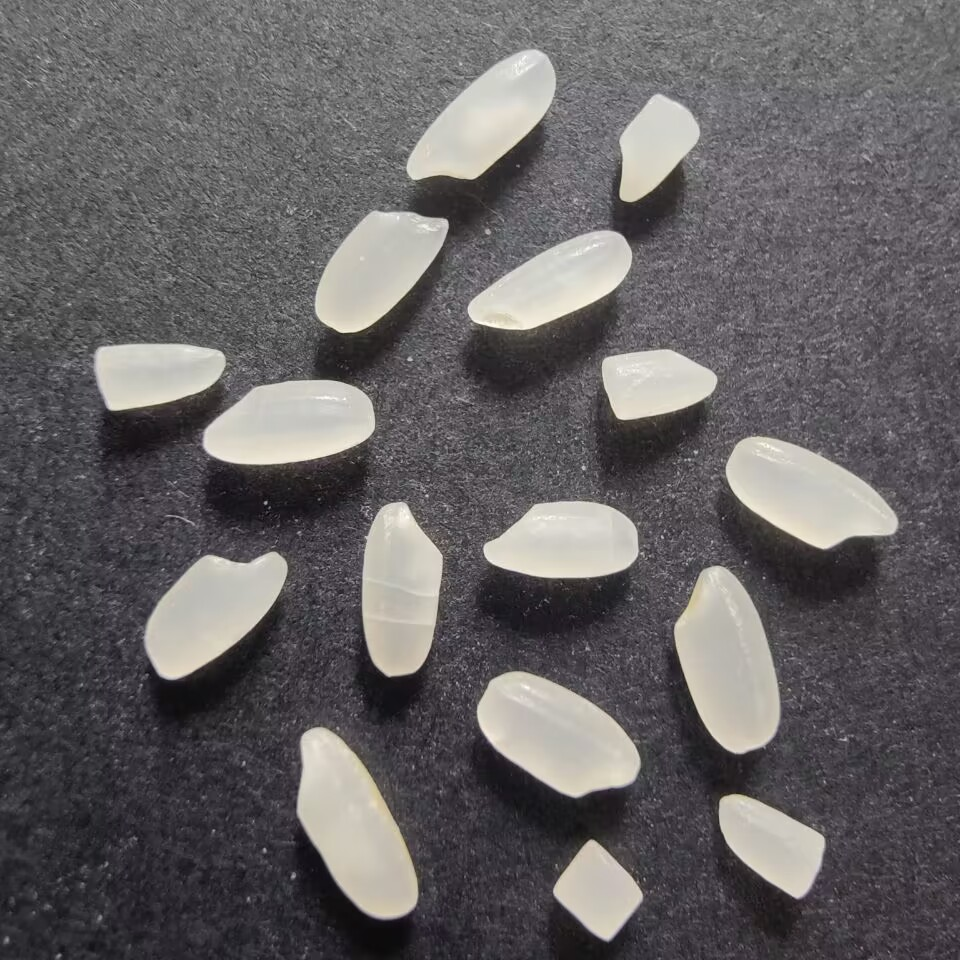broken: (713, 788, 828, 907), (609, 91, 704, 208), (89, 338, 229, 417), (546, 838, 647, 942), (595, 346, 721, 425)
rice: (289, 724, 425, 924), (719, 429, 902, 555), (401, 44, 561, 186), (669, 562, 785, 757), (475, 669, 644, 801), (139, 545, 290, 684), (308, 206, 455, 341), (456, 225, 636, 333), (357, 498, 450, 683), (199, 374, 379, 468), (478, 498, 642, 581)
